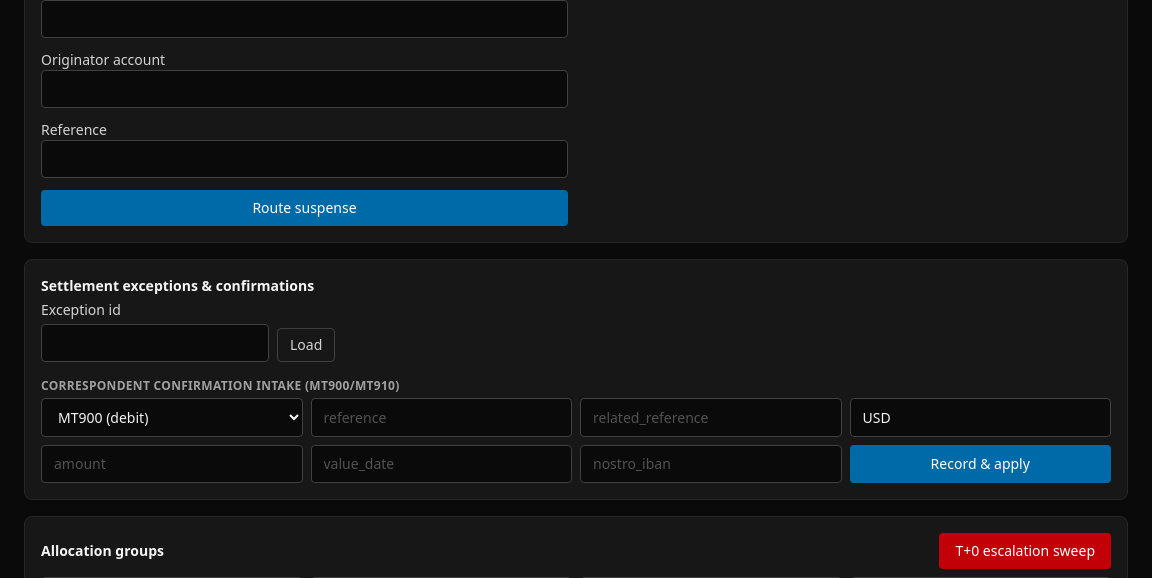
Test: SettlementPage › queues an exception resolution for four-eyes (202 pending, not executed)
(page scrolled)
Step 1. Type "5" into the field labelled "Exception id" → (155, 343), box [41,324,269,362]
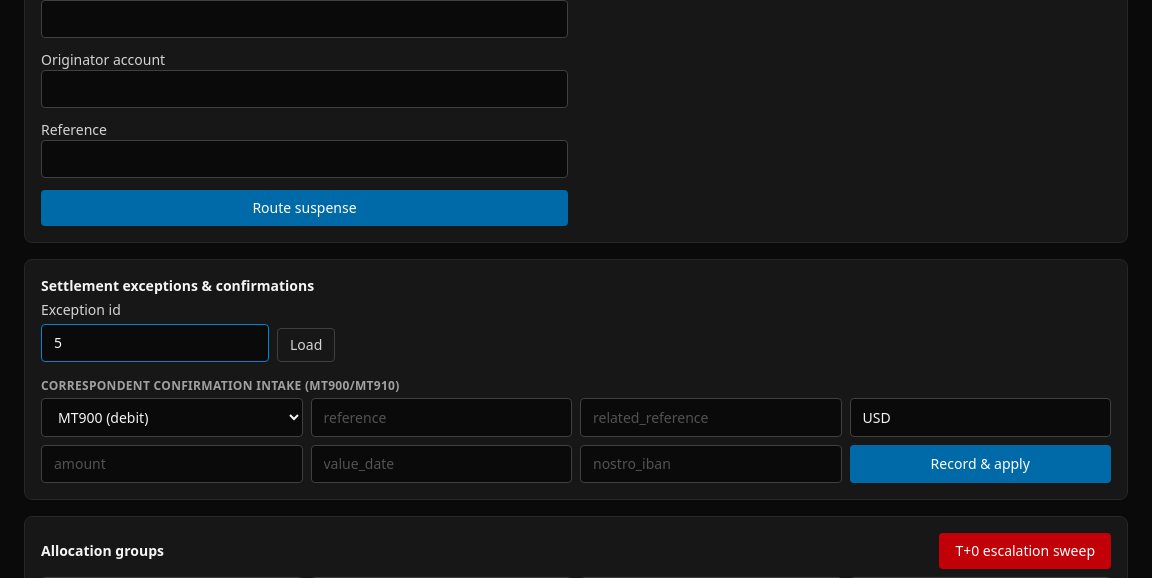
Step 2. Click the button "Load" → click(306, 345), box [277,328,335,362]
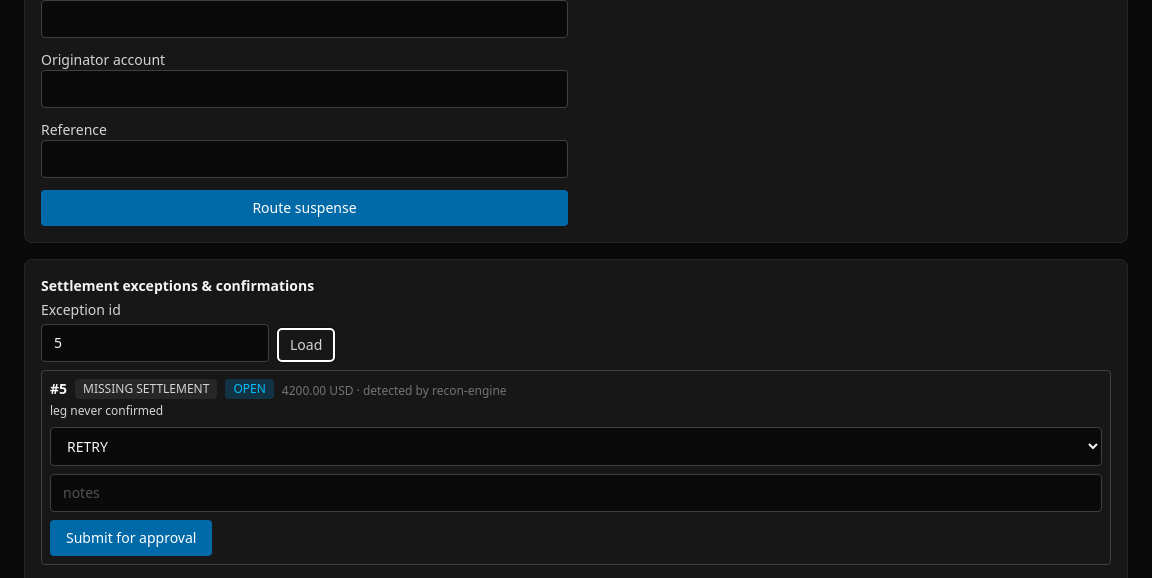
Expected: the text "MISSING SETTLEMENT" is shown, [75,379,217,399]
Step 3. Select "REVERSE" in the dropdown named "Resolution action" → (576, 446), box [50,427,1102,466]
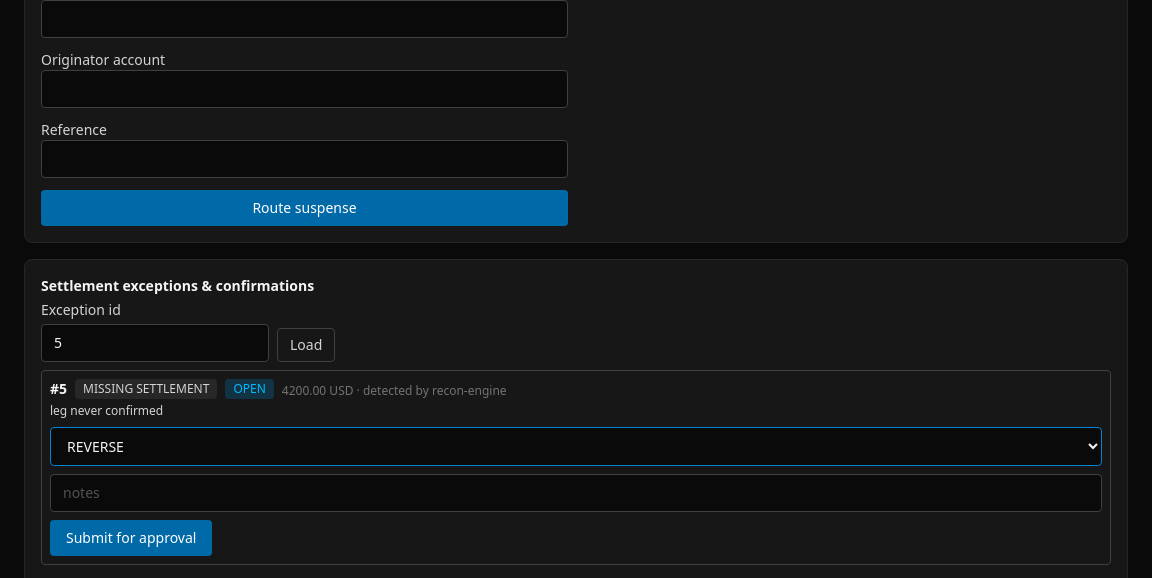
Step 4. Click the button "Submit for approval" → click(131, 538), box [50,520,212,556]
(page scrolled)
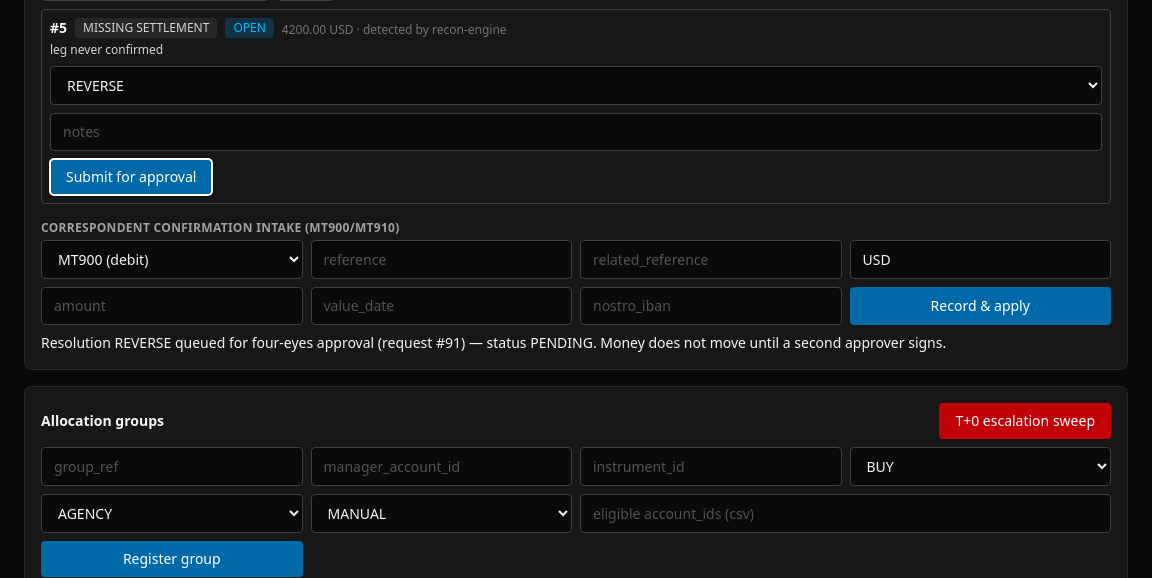
Expected: the text "queued for four-eyes approval (request #91)" is shown, [41,333,946,352]
